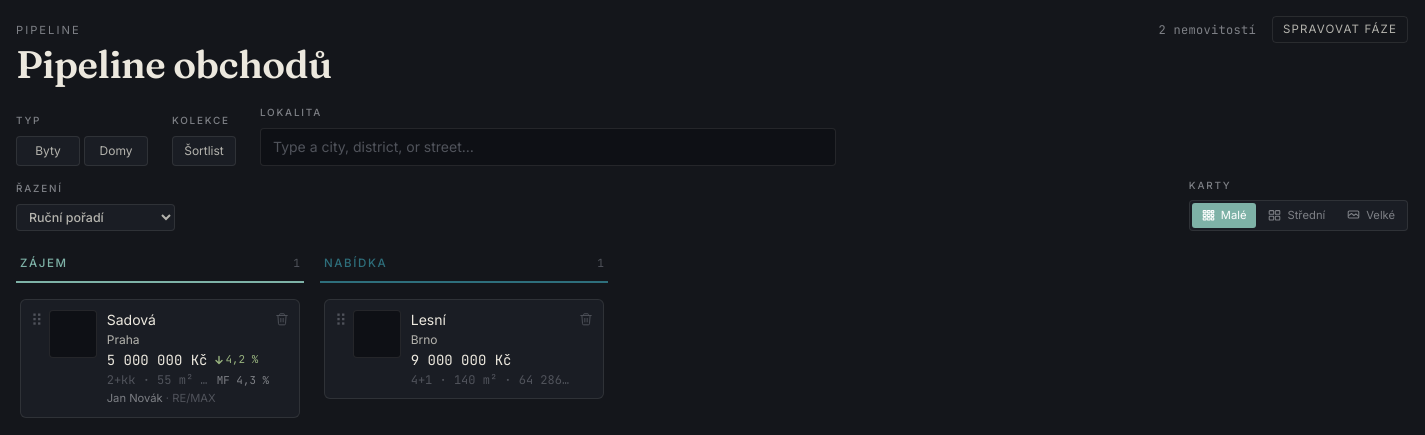
Scenario: <Pipeline> board › narrows the board to a collection and counts it in the header
The image size is (1425, 435).
Expected: the link "Sadová" is shown, 107,310 -> 156,328
Expected: the text "Kolekce" is shown, 172,113 -> 236,128
Click the button "Šortlist" at point(204, 151), box 172,136 -> 236,166
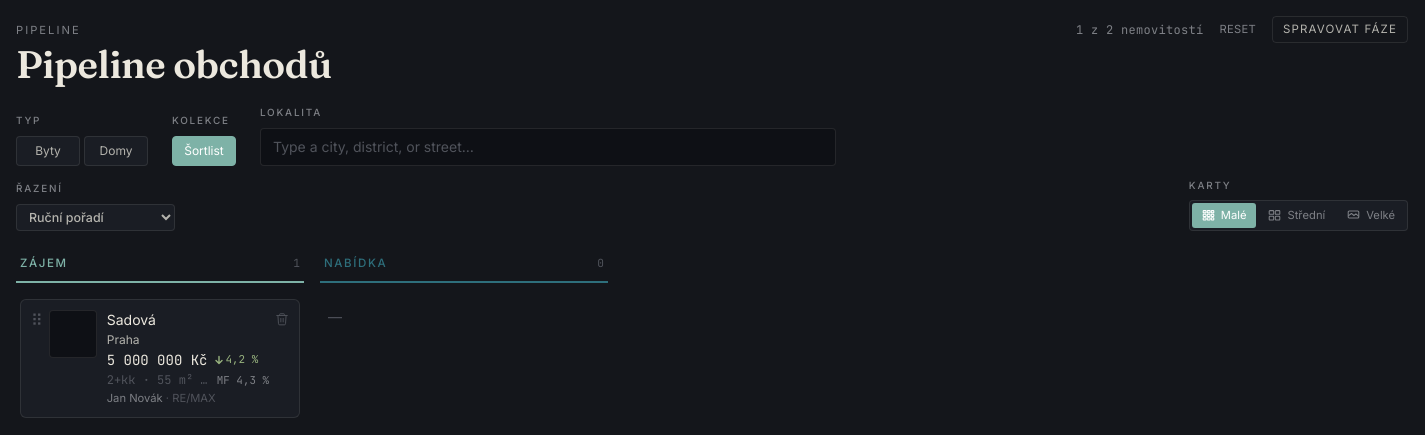
Expected: the link "Sadová" is shown, 107,310 -> 156,328
Expected: the link "Lesní" is gone
Expected: the text "1 z 2 nemovitostí" is shown, 1076,21 -> 1203,39
